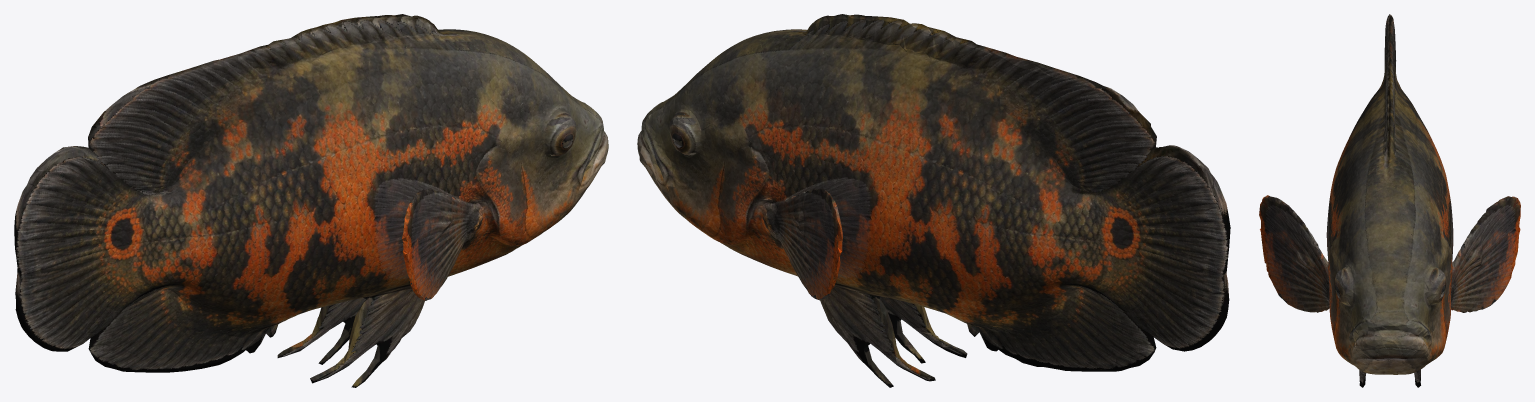
The model's file is oscar-hy2mv-20000.glb.
3 renders of one model, left to right at view 1: azimuth 30°, elevation 25°; view 2: azimuth 150°, elevation 25°; view 3: azimuth 270°, elevation 25°, orthographic. The views are drawn at different scales.
Parts seen in each view (by area): view 1: geometry_0; view 2: geometry_0; view 3: geometry_0.
Boxes of the visible parts, box(x1,y1,x2,y2) form: geometry_0: box(14, 14, 608, 387); geometry_0: box(637, 14, 1230, 387); geometry_0: box(1259, 14, 1520, 387).
Size of the model in its own units: 1 by 0.5803 by 0.4538.
1 material, 1 textured.
